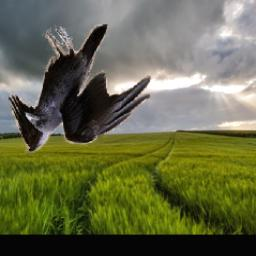Crow: (7, 24, 152, 153)
